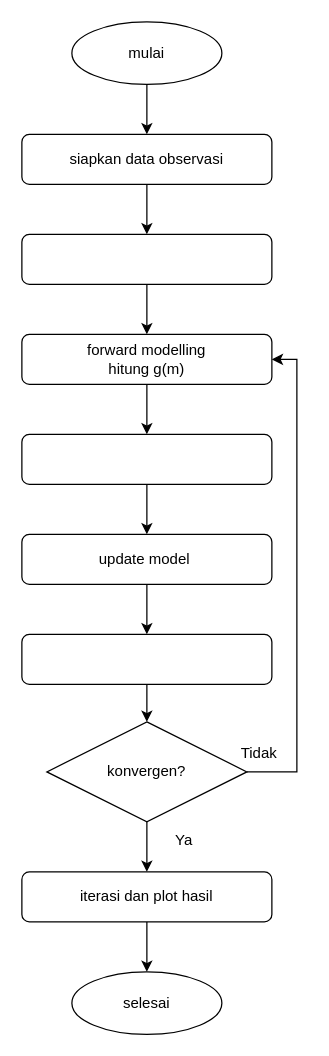
Image size: 329x1056. Some labels were removed from this diagram. The shapes that lost their labels are listed below. From the top down, each one's centre as x and y in pixels, then its label:
At point 146,258: "inisialisasi model awal".
At point 146,458: "hitung jacobian".
At point 146,658: "hitung misfit".
